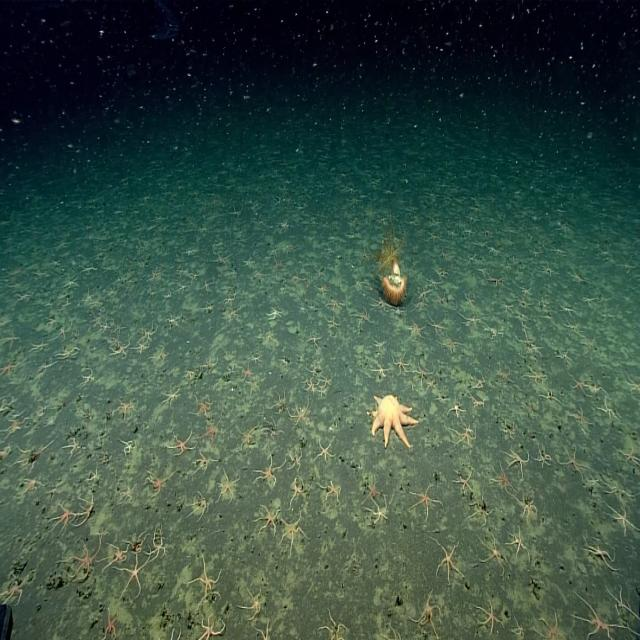brittle-stars: (574, 592, 616, 638), (66, 540, 100, 580), (123, 553, 151, 596), (435, 539, 463, 580), (194, 560, 222, 598), (479, 534, 505, 572), (1, 570, 29, 604), (410, 484, 439, 516), (584, 538, 611, 571), (15, 441, 48, 467), (607, 504, 635, 534), (560, 444, 584, 478), (475, 601, 499, 635), (416, 593, 438, 630), (122, 524, 151, 552), (280, 514, 303, 549), (536, 612, 564, 640), (257, 453, 282, 484), (505, 444, 530, 474), (322, 611, 347, 640), (255, 505, 278, 536), (606, 479, 635, 503), (197, 615, 224, 640), (170, 431, 195, 457), (54, 503, 76, 532), (471, 493, 493, 522), (103, 544, 129, 568), (217, 470, 237, 501), (617, 442, 640, 468), (146, 470, 168, 497), (492, 464, 512, 493), (242, 589, 262, 618), (534, 386, 563, 406), (79, 494, 97, 526), (202, 417, 224, 443), (369, 499, 389, 526), (510, 530, 530, 557), (452, 426, 476, 448), (524, 364, 548, 386), (149, 530, 166, 560), (192, 492, 210, 520), (21, 477, 45, 498), (102, 611, 119, 640), (320, 481, 340, 504), (598, 399, 617, 423), (240, 425, 258, 450), (290, 404, 309, 427), (569, 404, 587, 428), (316, 439, 334, 462), (0, 358, 20, 378), (5, 416, 25, 436), (414, 361, 433, 382), (392, 352, 410, 374), (194, 396, 212, 418), (455, 471, 472, 494), (1, 330, 20, 350), (533, 446, 550, 468), (521, 496, 537, 519), (116, 400, 135, 419), (162, 388, 181, 407), (568, 374, 586, 394), (442, 336, 462, 354), (273, 390, 288, 414), (361, 484, 378, 505), (449, 398, 465, 420), (196, 451, 212, 473), (513, 615, 527, 640), (65, 437, 82, 457), (111, 342, 129, 360), (290, 478, 304, 501), (288, 448, 302, 471), (409, 319, 425, 339), (120, 482, 136, 502), (154, 346, 170, 366), (60, 345, 80, 361), (626, 374, 640, 396), (56, 322, 72, 341), (82, 367, 96, 388), (461, 312, 479, 328), (142, 322, 158, 340), (354, 306, 370, 324), (428, 316, 444, 334), (373, 298, 391, 314), (304, 363, 322, 379), (31, 338, 48, 354), (487, 272, 504, 288), (374, 360, 389, 378), (248, 376, 263, 394), (564, 318, 580, 334), (258, 623, 273, 640), (496, 363, 510, 381), (470, 373, 484, 391), (120, 439, 134, 457), (268, 306, 284, 321), (135, 340, 151, 355), (558, 348, 572, 365), (112, 317, 126, 334), (582, 292, 598, 306), (326, 314, 340, 330), (327, 296, 343, 310), (302, 375, 316, 391), (308, 333, 322, 348), (426, 275, 440, 290), (541, 263, 554, 279), (65, 276, 79, 290), (252, 268, 266, 282), (89, 467, 101, 483), (167, 314, 180, 328), (501, 301, 514, 315), (418, 287, 431, 301), (553, 245, 567, 258), (464, 292, 476, 307), (223, 291, 235, 306), (240, 362, 251, 378), (290, 272, 303, 285), (202, 280, 214, 294), (521, 283, 533, 297), (149, 268, 161, 282), (177, 281, 189, 294), (243, 255, 255, 268), (317, 282, 330, 294), (590, 382, 601, 396), (250, 352, 262, 364), (590, 475, 601, 488), (266, 332, 276, 346), (321, 376, 332, 388), (176, 266, 187, 278), (297, 304, 306, 316), (318, 386, 327, 398)
